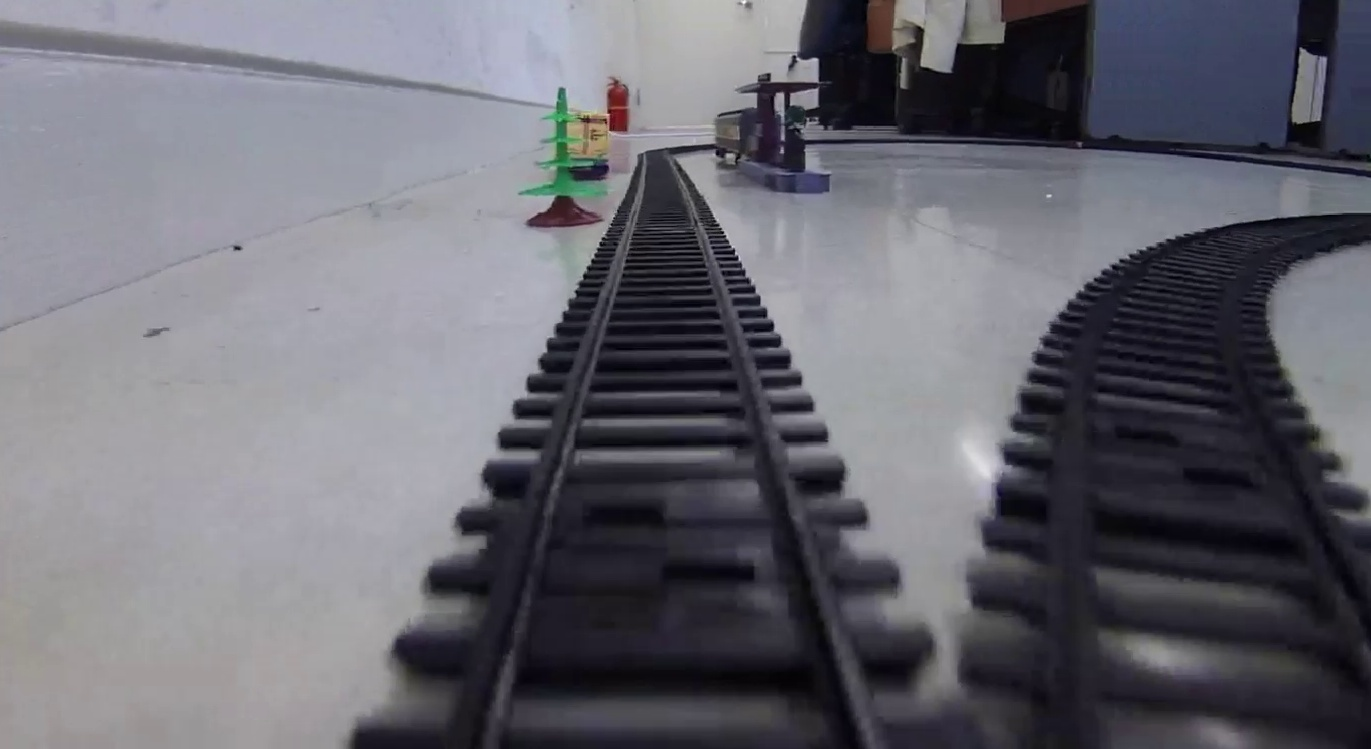tree: (522, 87, 603, 230)
